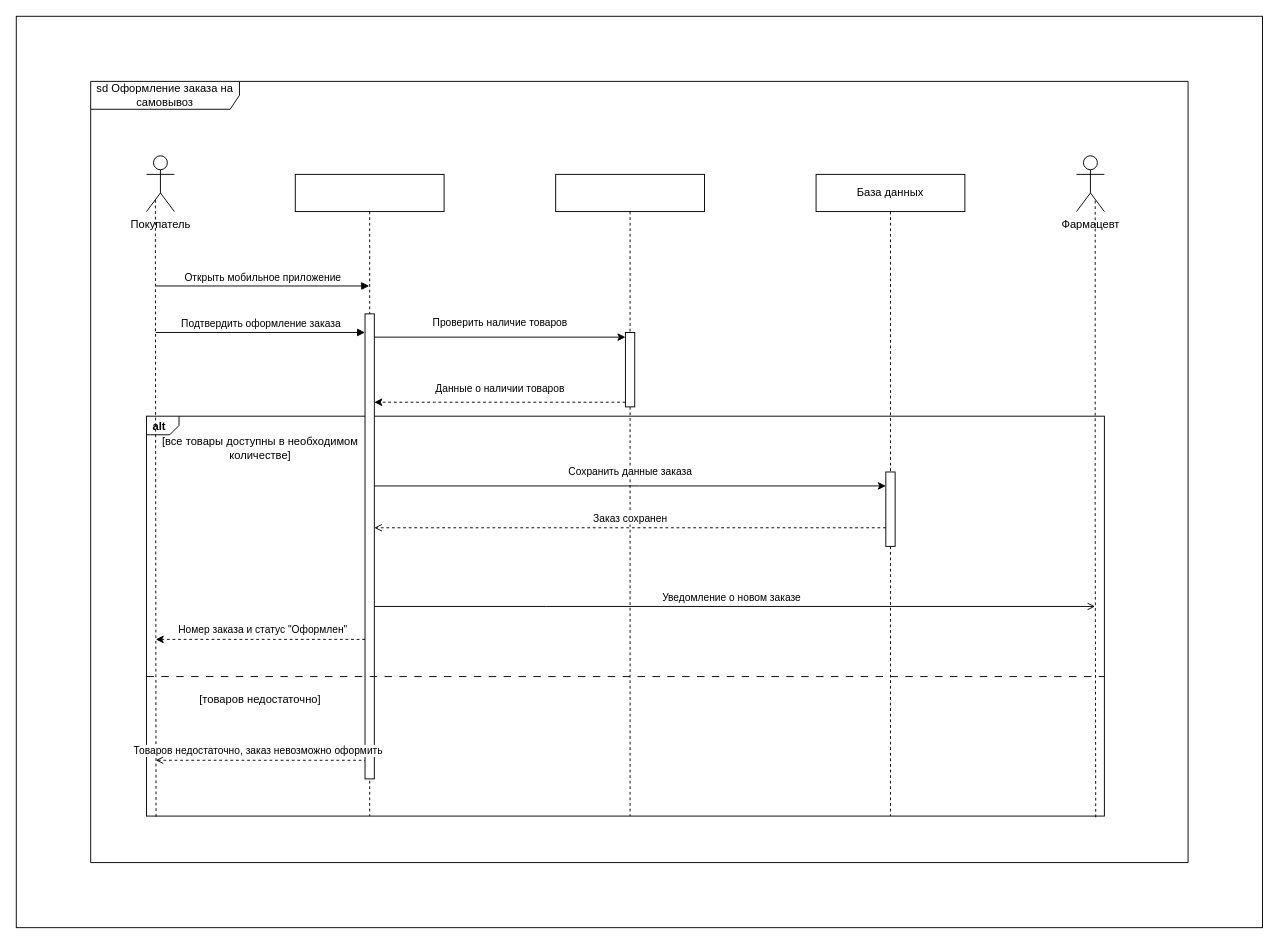
Image size: 1279x944. Some labels were removed from this diagram. The shapes that lost their labels are listed below. From the top down, each one's box as (x1, y1, x2, y2) in pixels, then its label:
(294, 173, 444, 816): Мобильное приложение
(555, 173, 704, 816): Товароучетная система
